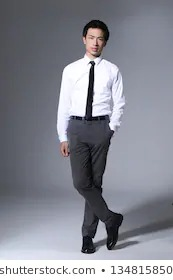F_dress pants: (64, 118, 117, 230)
F_shirt: (57, 58, 125, 142)
F_tie: (82, 60, 98, 123)
